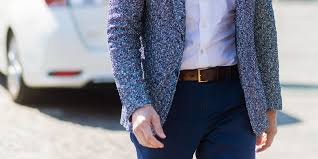F_belt: (171, 60, 244, 87)
F_dress pants: (131, 84, 258, 159)
